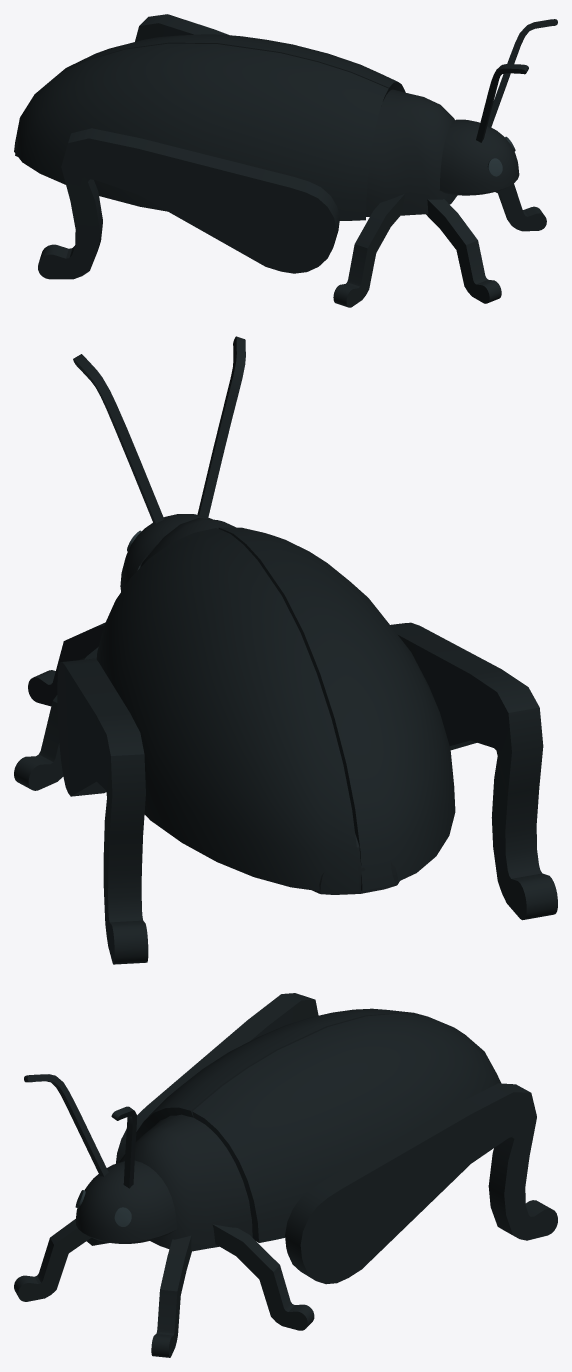
Rendered from cricket.fbx.
3 renders of one model, top to bottom at view 1: azimuth 30°, elevation 25°; view 2: azimuth 150°, elevation 25°; view 3: azimuth 270°, elevation 25°, orthographic. The views are drawn at different scales.
Visible parts, largest first — view 1: Sphere.386, Cube.149, Cube.037, Cube.038, Cube.148; view 2: Sphere.386, Cube.149, Cube.148, Cube.038, Cube.037; view 3: Sphere.386, Cube.149, Cube.037, Cube.038, Cube.148.
Part boxes in pixels (x1,y1,x2,y2): Sphere.386: (14,34,405,220); Cube.149: (38,14,546,307); Cube.037: (15,89,457,216); Cube.038: (439,119,519,195); Cube.148: (476,19,557,142); Sphere.386: (96,527,455,892); Cube.149: (14,622,557,964); Cube.148: (73,336,245,523); Cube.038: (120,514,212,591); Cube.037: (140,518,399,894); Sphere.386: (135,1008,501,1242); Cube.149: (14,993,557,1357); Cube.037: (119,1114,252,1251); Cube.038: (75,1160,176,1243); Cube.148: (24,1074,136,1188).
Size of the model in its own units: 217 by 107 by 217.
Materials: 1 (1 with a texture image).
